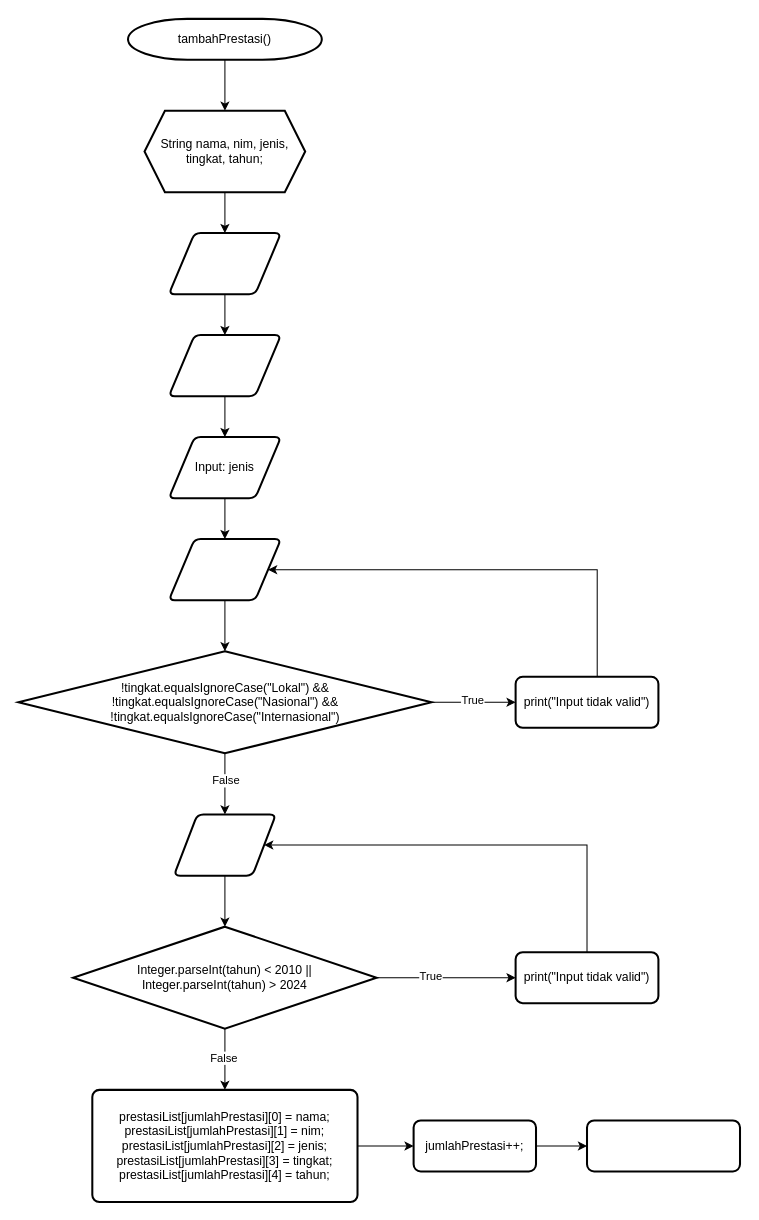
Image size: 759x1220. Some labels were removed from this diagram. The centre of each missing label's shape, as x and y in pixels:
Input: nama: pixel 224 263
Input: nim: pixel 224 365
input: tahun: pixel 224 844
Input: tingkat: pixel 224 569
print("Data berhasil ditambah"): pixel 663 1145
